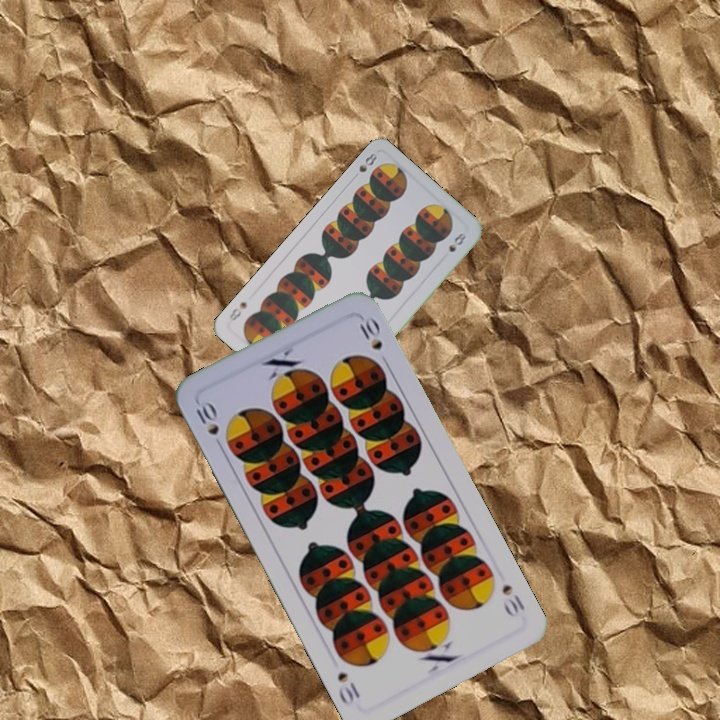S10: (191, 397, 226, 453), (498, 580, 528, 620)
S8: (348, 149, 380, 183)
